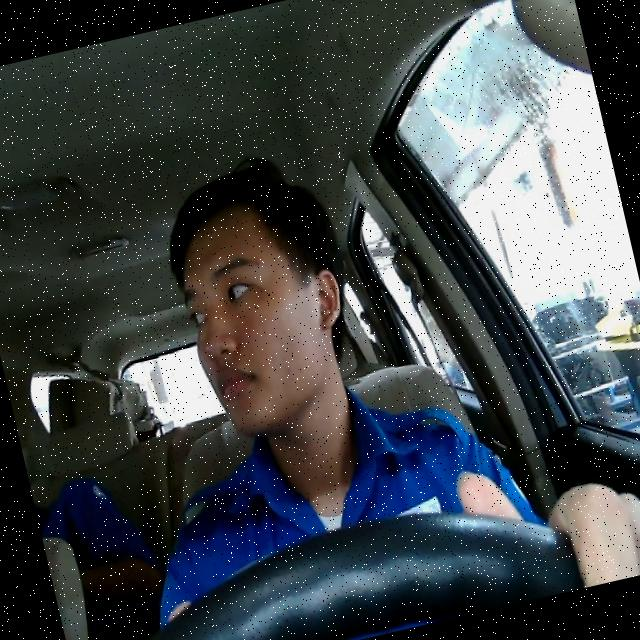seeing_left: (162, 182, 368, 445)
